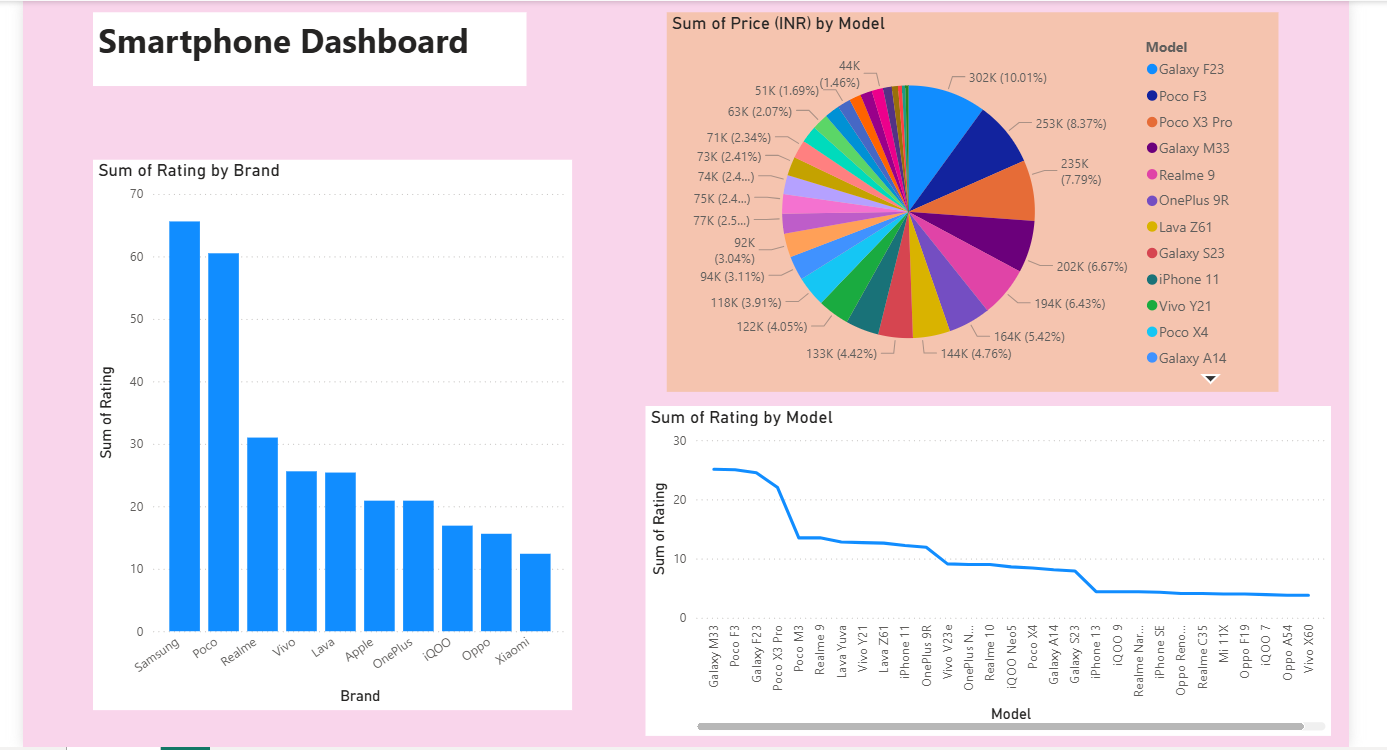

The page's visual inventory and layout, read from the dashboard file:
{"tool":"powerbi","page":{"name":"Page 1","canvas":[1280,720],"ordinal":0},"visuals":[{"type":"clusteredColumnChart","fields":{"Y":["Sum(Mobilesale.Rating)"],"Category":["Mobilesale.Brand"]},"box":[67.2,153.7,462.4,531],"z":0},{"type":"pieChart","fields":{"Category":["Mobilesale.Model"],"Y":["Sum(Mobilesale.Price (INR))"]},"box":[621.6,11,590.1,366.4],"z":1000},{"type":"lineChart","fields":{"Category":["Mobilesale.Model"],"Y":["Sum(Mobilesale.Rating)"]},"box":[601,391.1,661.4,318.4],"z":1001},{"type":"textbox","box":[67.2,11,418.5,71.4],"z":1002}]}

Visuals, with their boxes in screenshot pixels (x1, y1, x2, y2):
clusteredColumnChart - Sum(Mobilesale.Rating) x Mobilesale.Brand: 204,174,663,701
pieChart - Mobilesale.Model x Sum(Mobilesale.Price (INR)): 754,33,1340,396
lineChart - Mobilesale.Model x Sum(Mobilesale.Rating): 734,410,1386,726
textbox: 204,33,619,103
